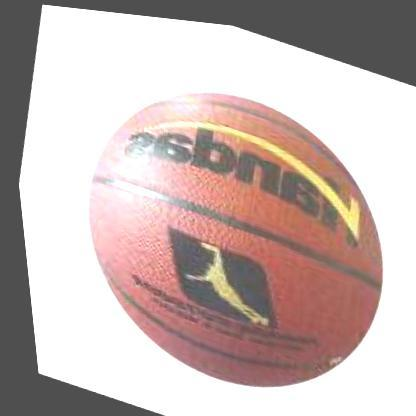basketball: (38, 38, 416, 416)
